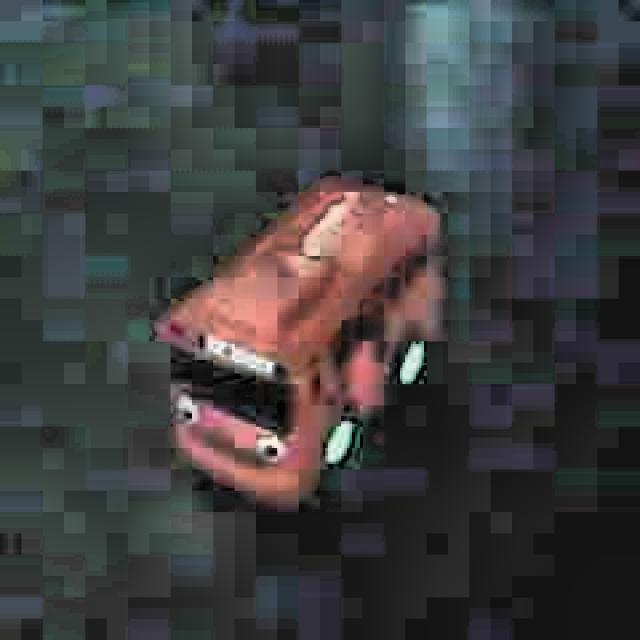bus: (147, 171, 457, 516)
